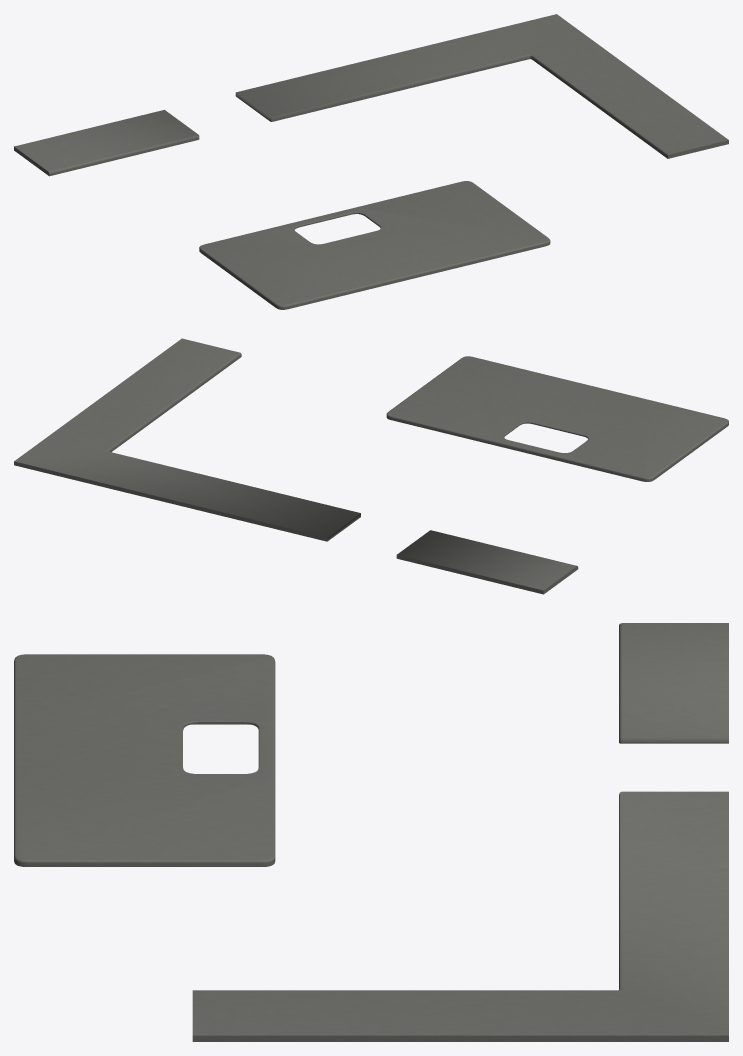
File: Countertops_QuartzExpoGray.glb
The picture shows the model from 3 angles, top to bottom: view 1: azimuth 30°, elevation 25°; view 2: azimuth 150°, elevation 25°; view 3: azimuth 270°, elevation 25°; orthographic projection. The views are drawn at different scales.
Visible parts, largest first — view 1: Countertop_quartz_expo_gray.001; view 2: Countertop_quartz_expo_gray.001; view 3: Countertop_quartz_expo_gray.001.
Part boxes in pixels (left/top/right/bottom): Countertop_quartz_expo_gray.001: left=14, top=14, right=728, bottom=309; Countertop_quartz_expo_gray.001: left=14, top=338, right=728, bottom=594; Countertop_quartz_expo_gray.001: left=14, top=623, right=728, bottom=1041.
Bounding box in the file's own units: 7.1 × 0.07 × 5.2.
1 material, 1 textured.
